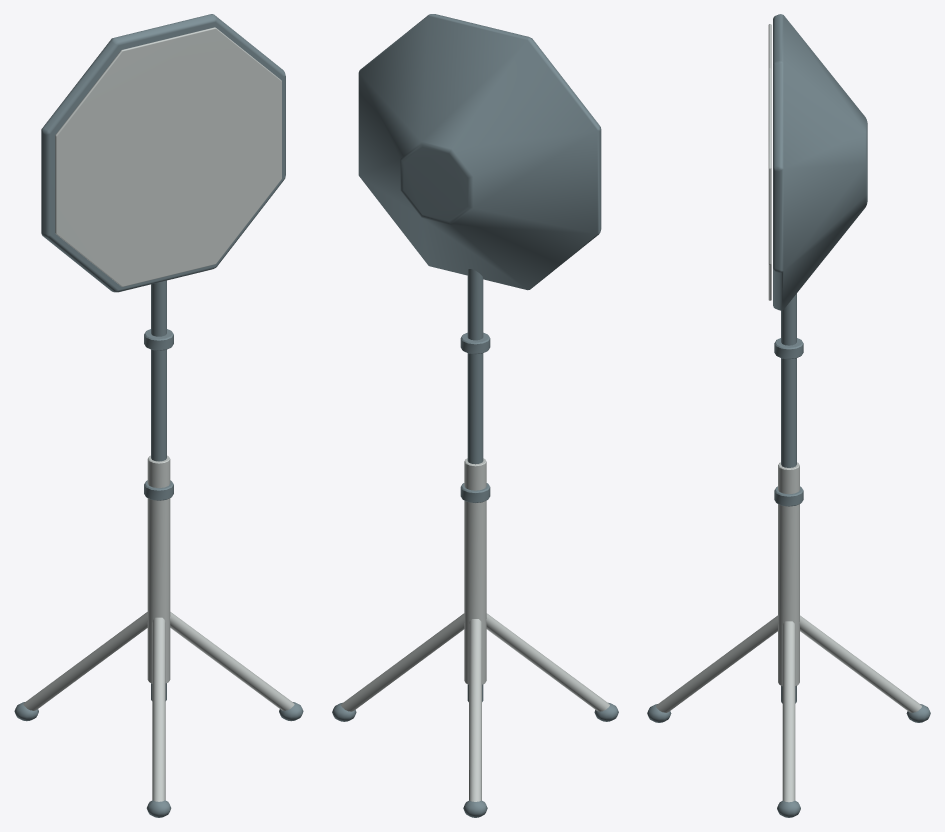
Rendered from softbox.glb.
3 renders of one model, left to right at view 1: azimuth 30°, elevation 25°; view 2: azimuth 150°, elevation 25°; view 3: azimuth 270°, elevation 25°, orthographic.
Visible parts, largest first — view 1: diffuser, octagonal_softbox_shell, lower_stand, telescoping_stand, tripod_leg_1, tripod_leg_0, tripod_leg_2; view 2: octagonal_softbox_shell, lower_stand, telescoping_stand, tripod_leg_2, tripod_leg_0, tripod_leg_1; view 3: octagonal_softbox_shell, lower_stand, tripod_leg_0, telescoping_stand, tripod_leg_1, tripod_leg_2, diffuser.
Part boxes in pixels (x1,y1,x2,y2): diffuser: [55, 27, 281, 286]; octagonal_softbox_shell: [41, 14, 285, 292]; lower_stand: [147, 455, 170, 683]; telescoping_stand: [151, 280, 166, 700]; tripod_leg_1: [152, 617, 165, 801]; tripod_leg_0: [170, 612, 294, 710]; tripod_leg_2: [23, 612, 147, 710]; octagonal_softbox_shell: [358, 14, 601, 290]; lower_stand: [464, 458, 486, 684]; telescoping_stand: [467, 269, 483, 701]; tripod_leg_2: [469, 619, 481, 801]; tripod_leg_0: [341, 613, 464, 711]; tripod_leg_1: [486, 613, 609, 711]; octagonal_softbox_shell: [773, 14, 867, 310]; lower_stand: [778, 462, 799, 685]; tripod_leg_0: [782, 621, 795, 802]; telescoping_stand: [781, 293, 796, 703]; tripod_leg_1: [656, 615, 778, 712]; tripod_leg_2: [799, 615, 921, 712]; diffuser: [768, 24, 771, 300].
Bounding box in the file's own units: 0.8394 × 2.21 × 0.7955.
